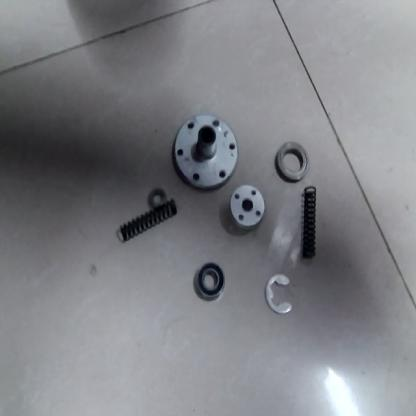FOD: (172, 113, 238, 191), (115, 201, 182, 239), (296, 181, 320, 262), (274, 140, 311, 184), (229, 187, 267, 229), (263, 272, 294, 321), (193, 260, 228, 301), (146, 180, 168, 208)
